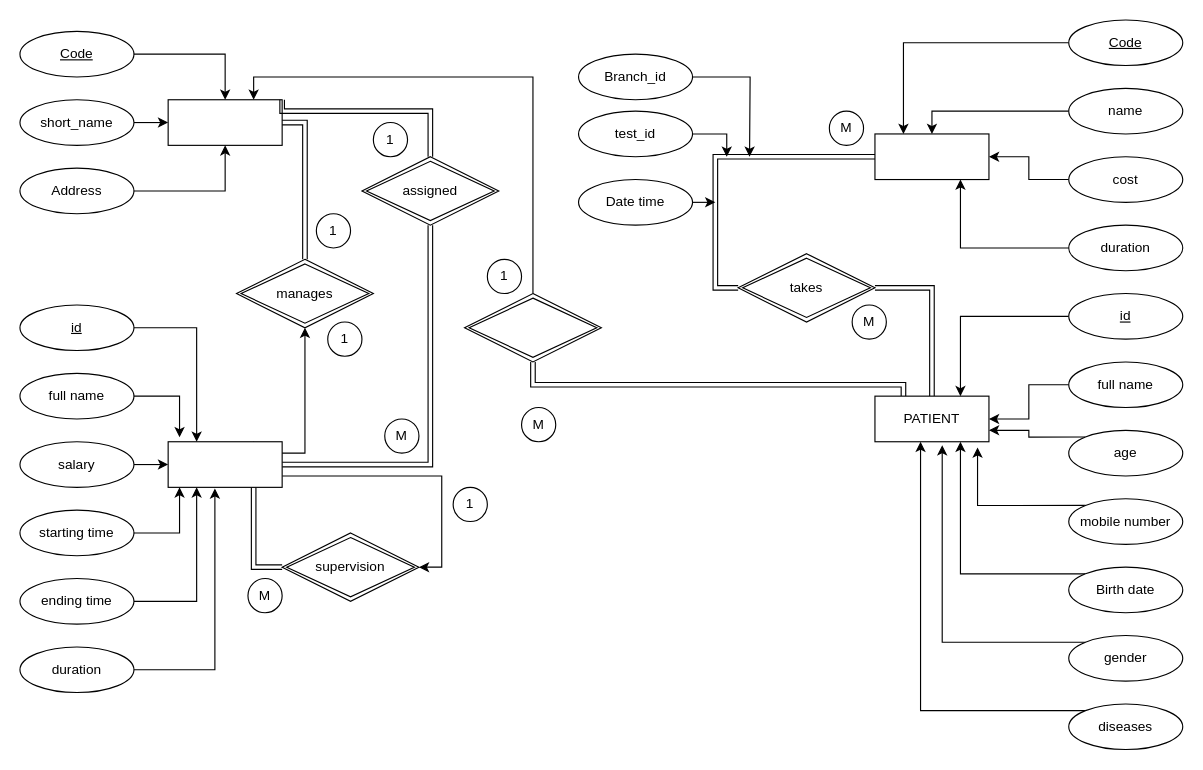
Image size: 1203x770. Some labels were removed from this diagram. Each missing label, with the centre of its shape:
"BRANCH" goes at (x=224, y=122).
"EMPLOYEE" goes at (x=224, y=464).
"TEST" goes at (x=931, y=156).
"visits" goes at (x=532, y=327).
